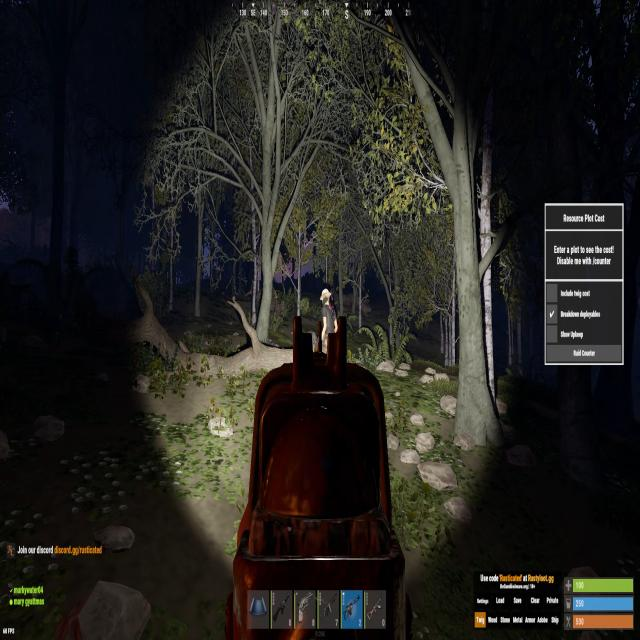Player: (320, 290, 338, 356)
